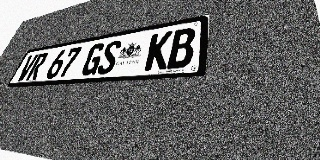6: (44, 49, 69, 79)
7: (57, 46, 82, 78)
B: (167, 27, 196, 69)
G: (80, 42, 106, 76)
K: (144, 31, 173, 71)
R: (25, 52, 49, 80)
S: (95, 39, 123, 75)
V: (15, 54, 39, 81)
